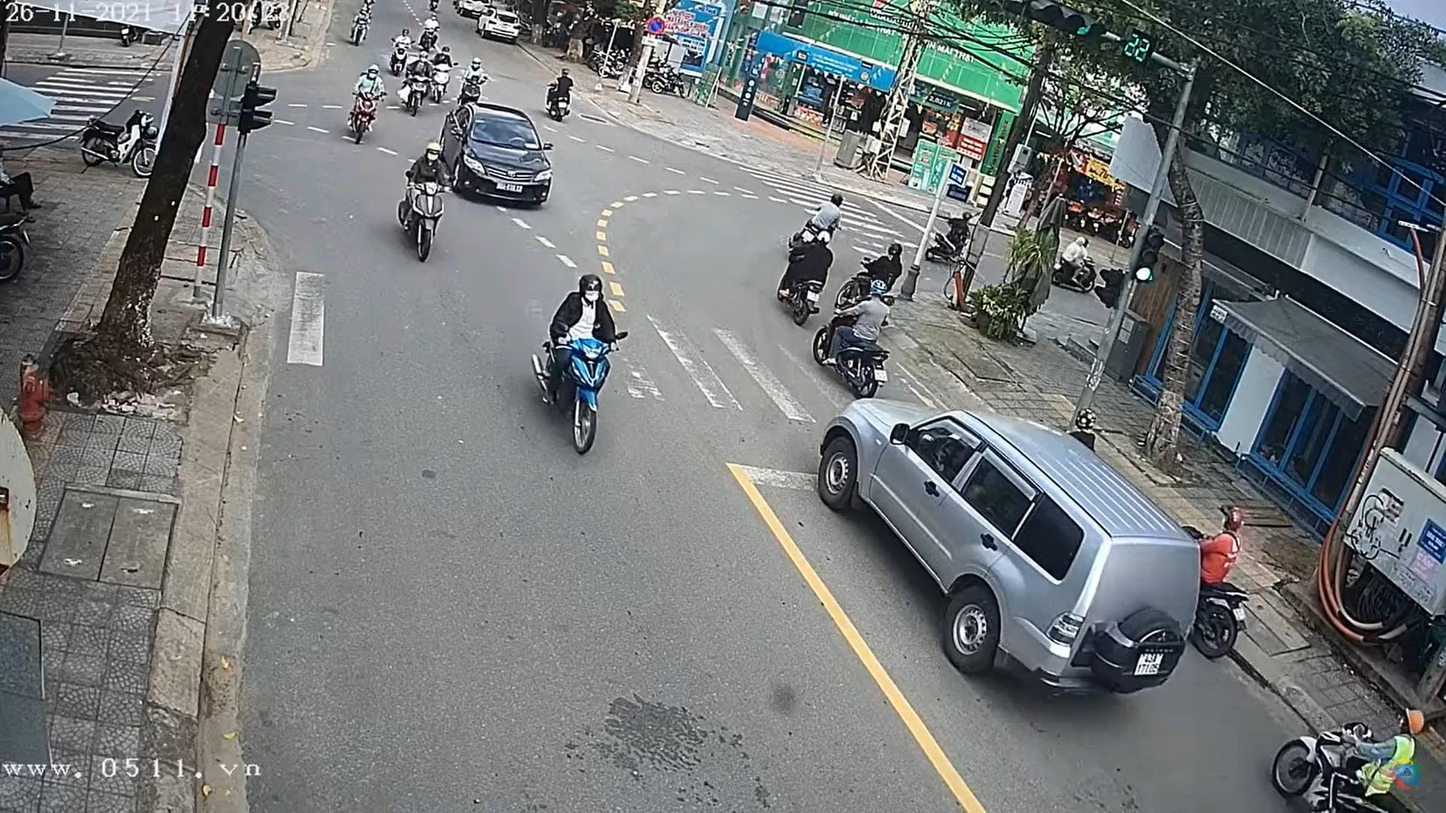car: (443, 105, 559, 211), (455, 2, 492, 21)
motorbike: (532, 315, 614, 457), (396, 166, 449, 263), (349, 85, 376, 145), (404, 66, 432, 121), (547, 81, 574, 125)
